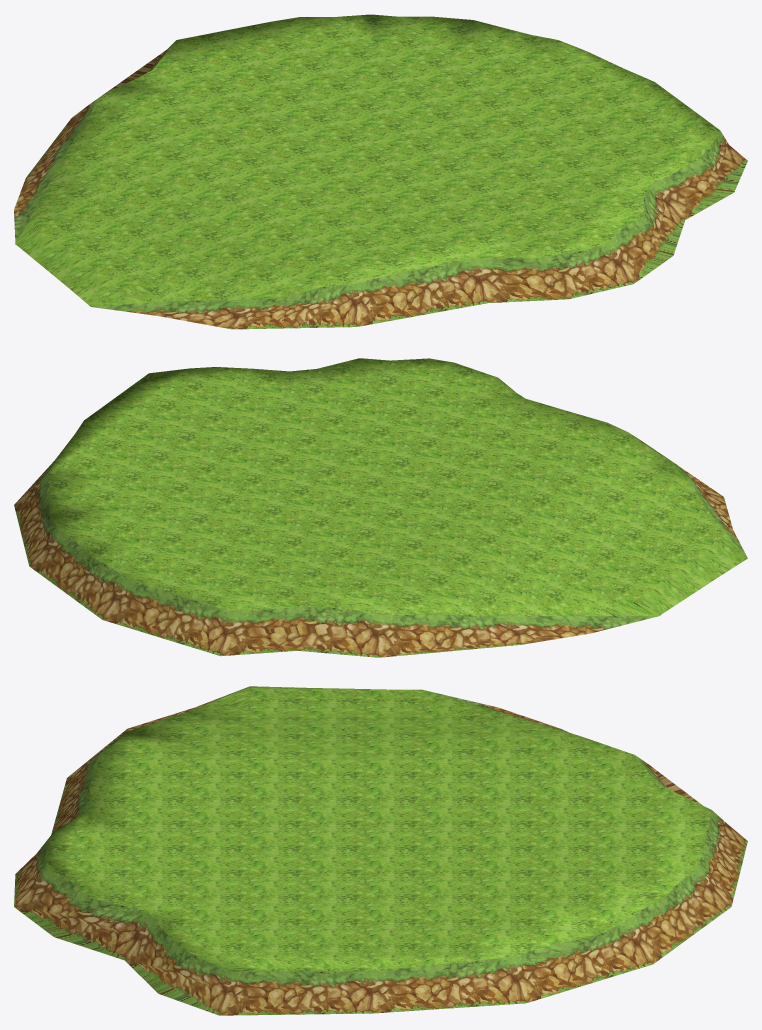
File: ground_Terrain_02.fbx
3 renders of one model, top to bottom at view 1: azimuth 30°, elevation 25°; view 2: azimuth 150°, elevation 25°; view 3: azimuth 270°, elevation 25°, orthographic. The views are drawn at different scales.
Visible parts, largest first — view 1: ground_Terrain_02; view 2: ground_Terrain_02; view 3: ground_Terrain_02.
Part boxes in pixels (bbox=[...]): ground_Terrain_02: bbox=[14, 14, 747, 329]; ground_Terrain_02: bbox=[14, 358, 747, 657]; ground_Terrain_02: bbox=[14, 686, 747, 1015].
Bounding box in the file's own units: 2688 × 126 × 2532.
